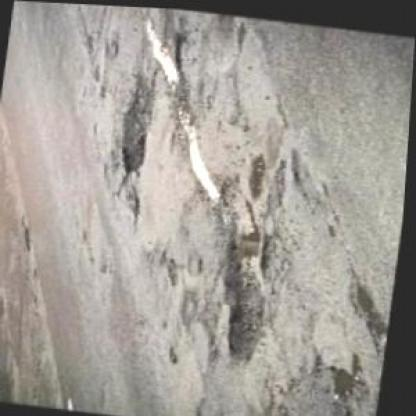pothole: (194, 168, 290, 360), (116, 69, 162, 175), (342, 272, 396, 351), (326, 344, 384, 415)
